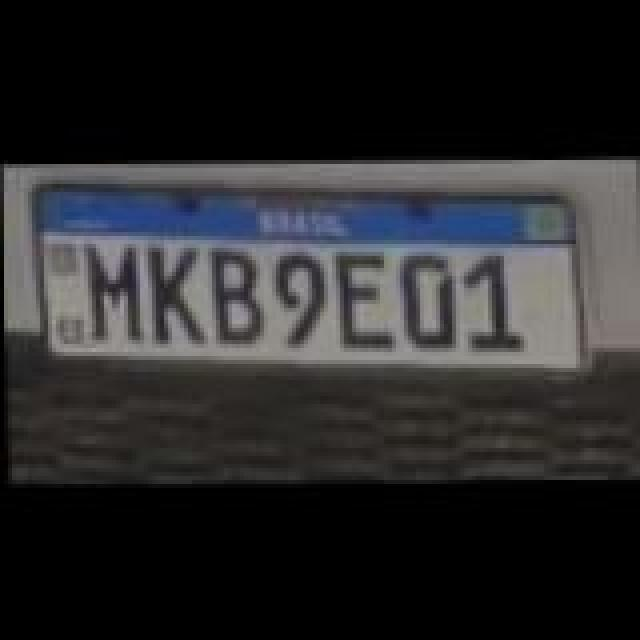1: (466, 256, 526, 352)
9: (278, 250, 330, 346)
B: (212, 248, 268, 344)
D: (402, 250, 462, 350)
E: (338, 252, 398, 352)
K: (150, 246, 210, 346)
M: (86, 246, 146, 346)
